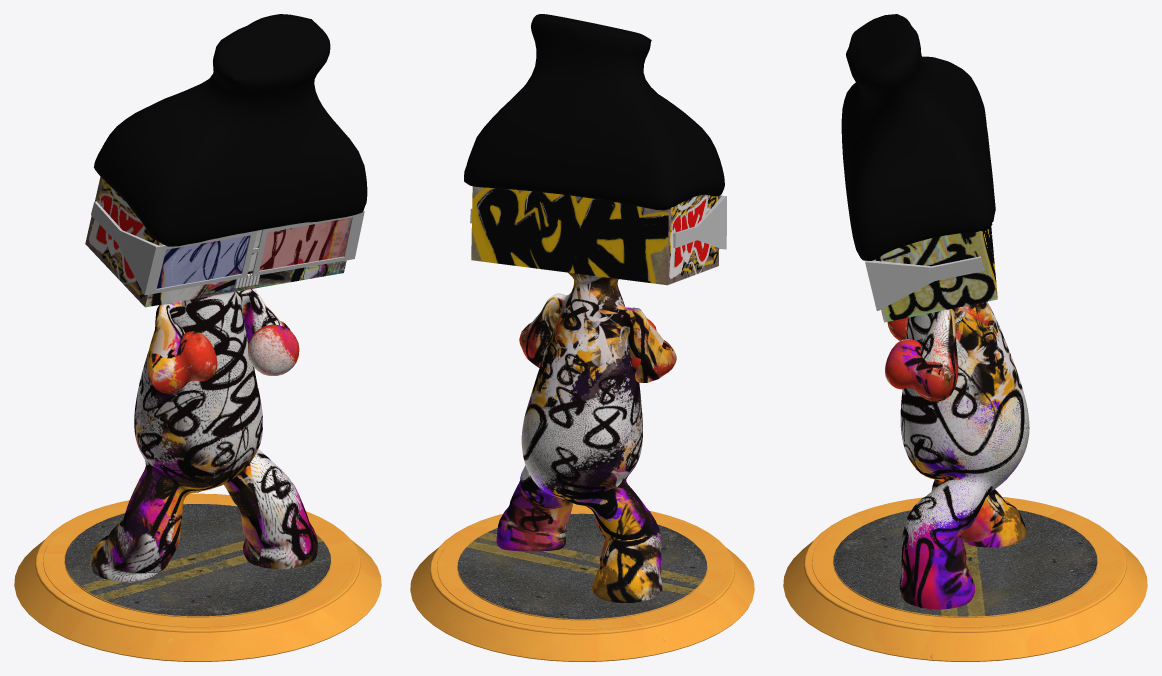
Rendered from 377_sanitized.glb.
The picture shows the model from 3 angles, left to right: view 1: azimuth 30°, elevation 25°; view 2: azimuth 150°, elevation 25°; view 3: azimuth 270°, elevation 25°; orthographic projection. The views are drawn at different scales.
Visible parts, largest first — view 1: BBody; view 2: BBody; view 3: BBody.
Part boxes in pixels (bbox=[...]): BBody: bbox=[14, 14, 381, 661]; BBody: bbox=[410, 14, 754, 661]; BBody: bbox=[783, 14, 1147, 661].
Size of the model in its own units: 1.45 by 2.5 by 1.45.
9 materials, 4 textured.
